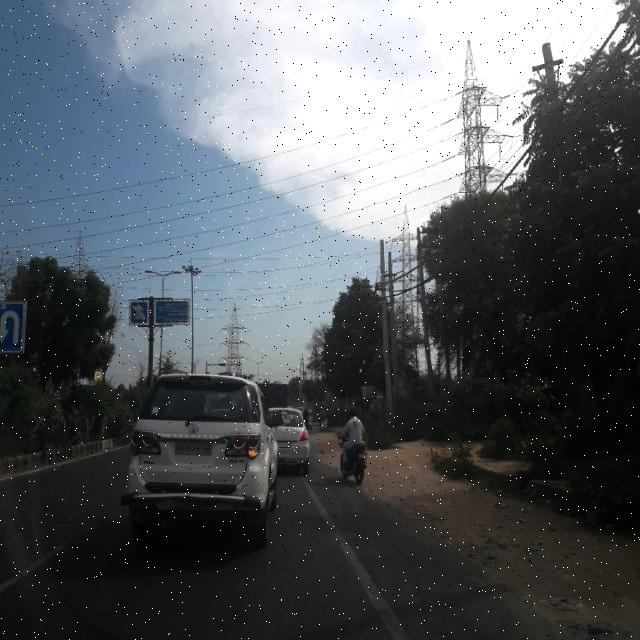D20: (123, 539, 342, 625)
